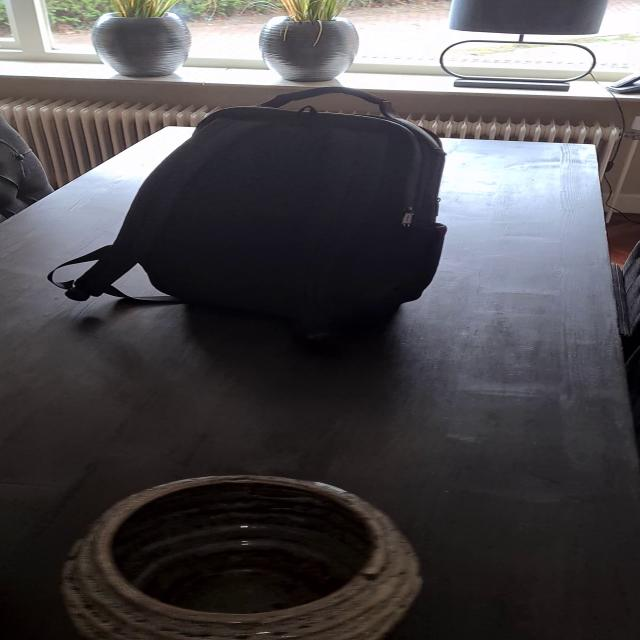backpack: (25, 78, 463, 344)
